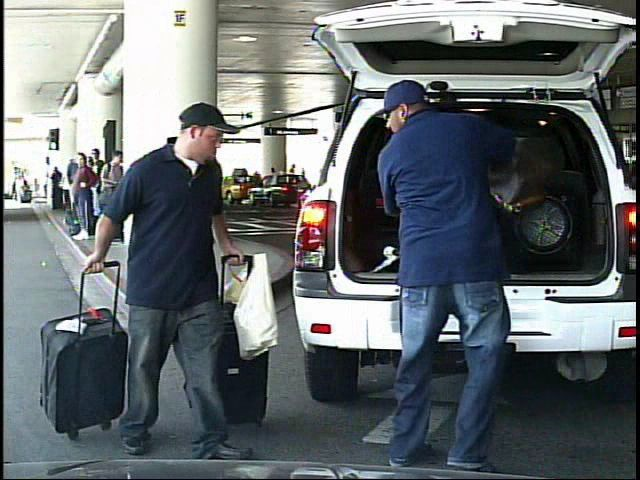person: (360, 74, 546, 476), (105, 110, 260, 456), (287, 162, 300, 196), (15, 172, 26, 204)
